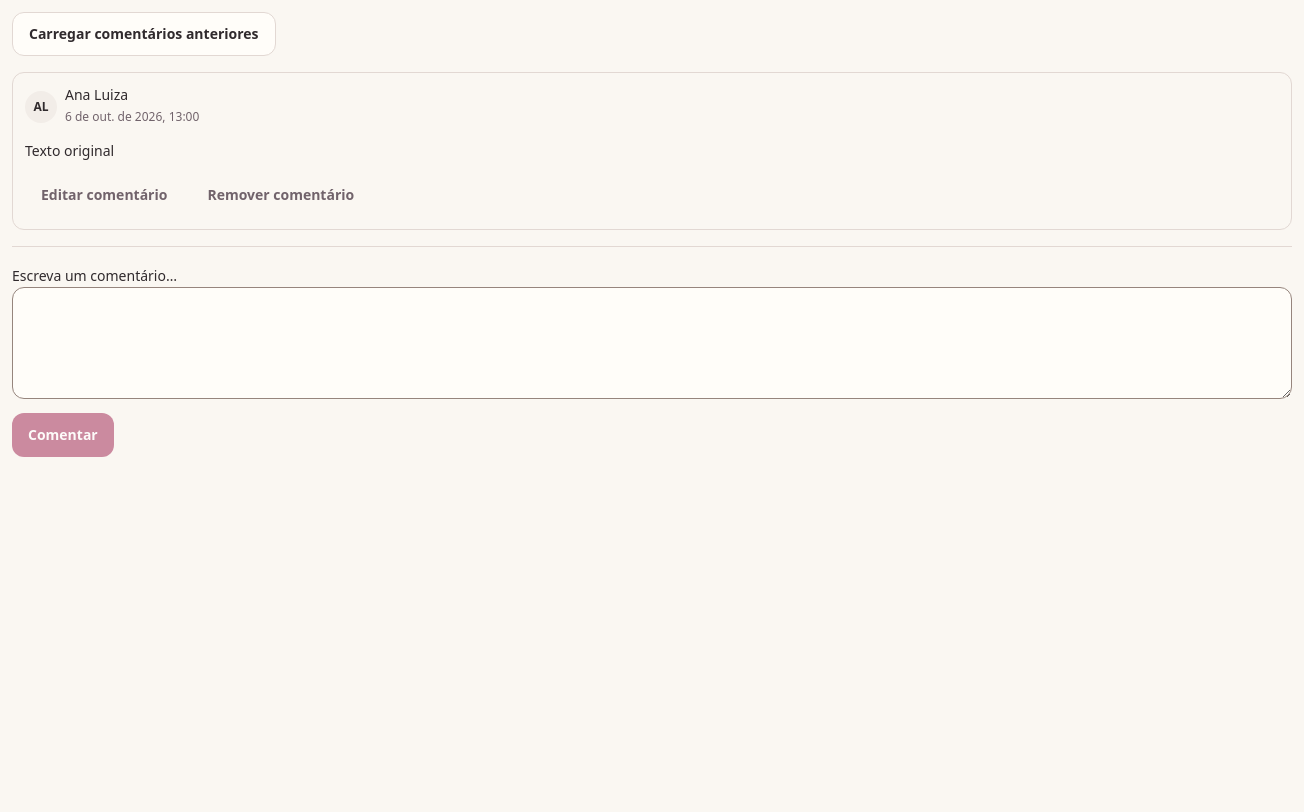
Test case: carrega anteriores em ordem cronológica
Click the button "Carregar comentários anteriores": click(144, 34) left=12, top=12, right=276, bottom=56
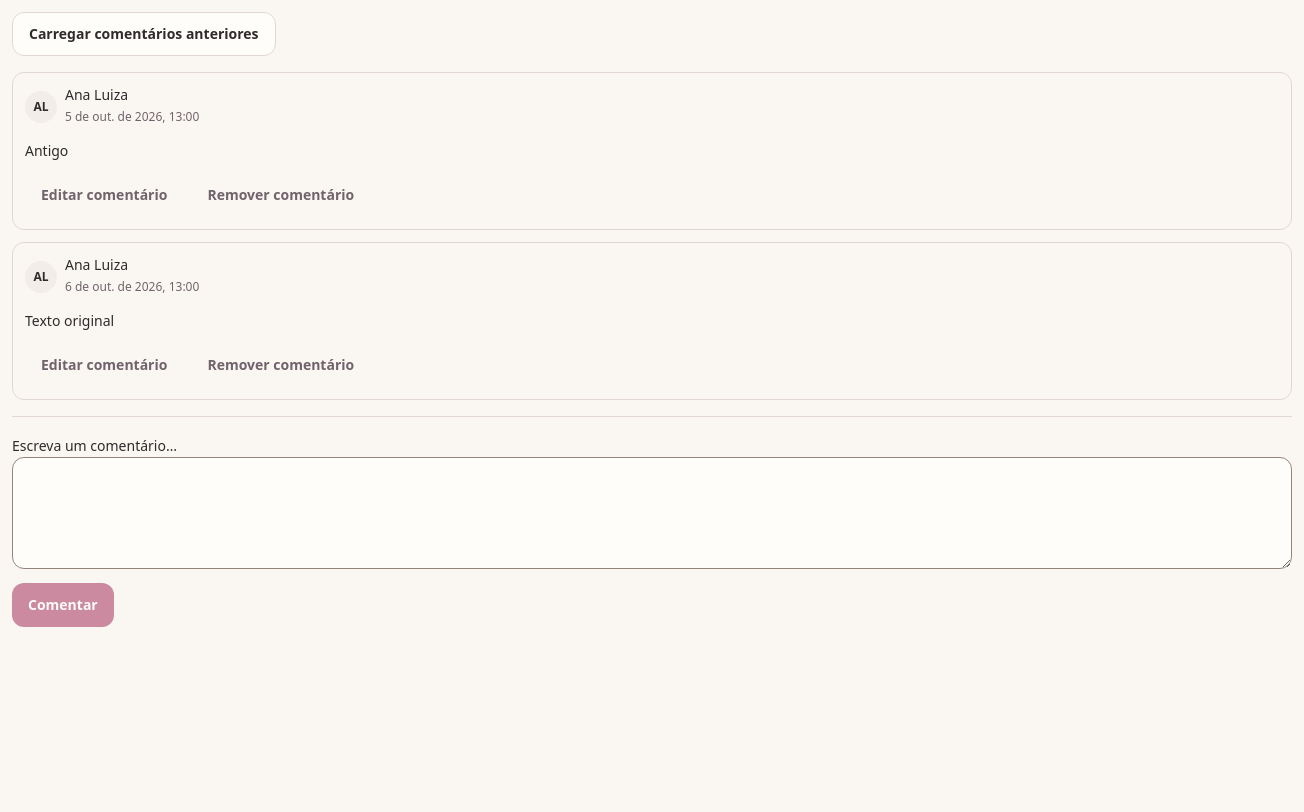
Expected: the element named "Comentário de Ana Luiza" shows "Antigo", left=25, top=141, right=68, bottom=160
